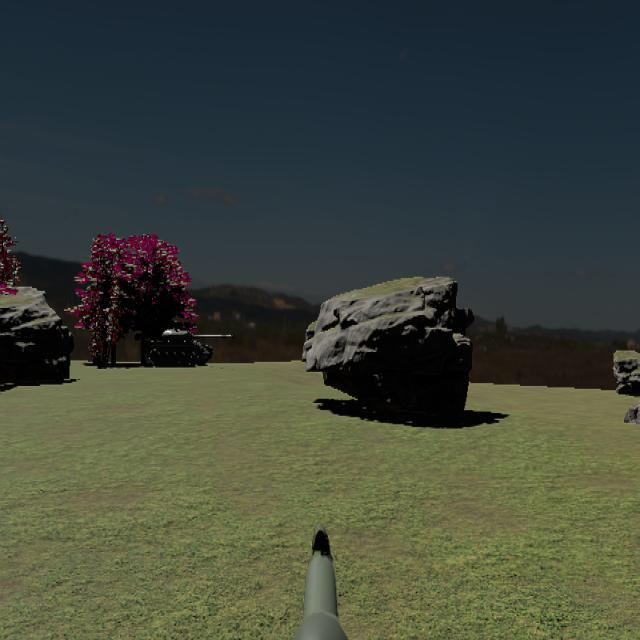Tank: (143, 327, 233, 368)
